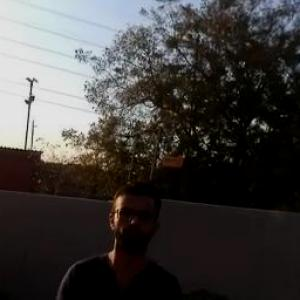follow: (40, 176, 190, 299)
